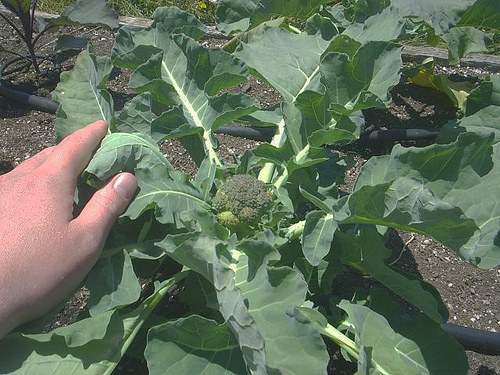broccoli: (208, 169, 279, 226), (215, 209, 243, 227)
